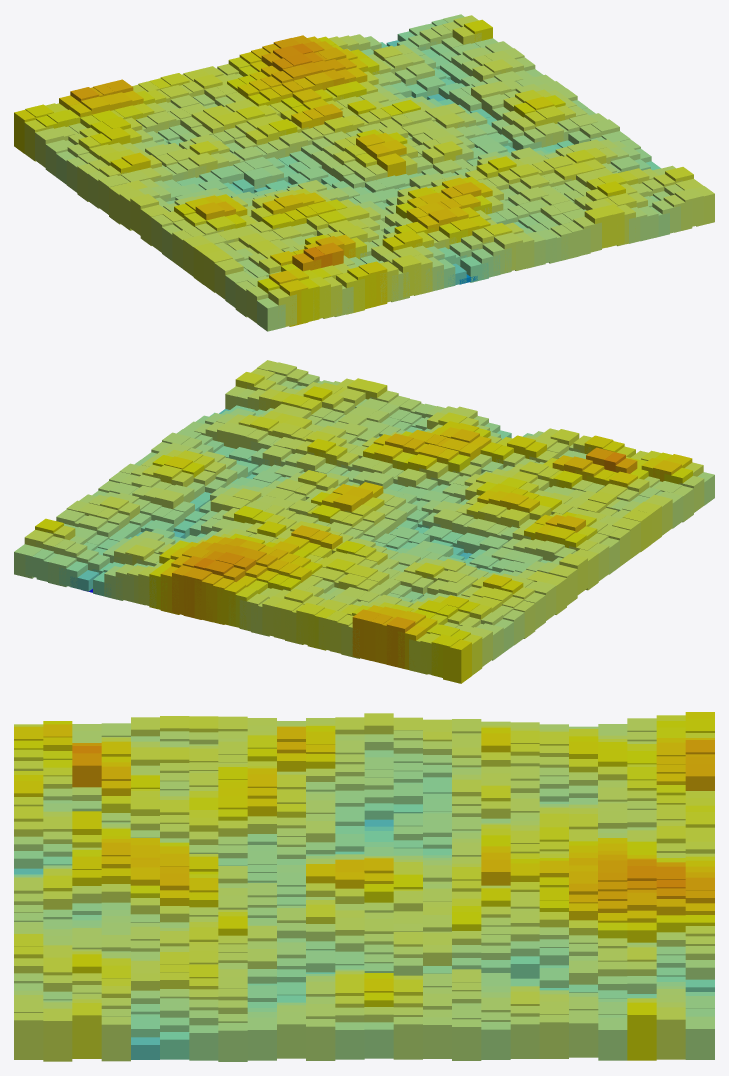
Rendered from population.glb.
3 renders of one model, top to bottom at view 1: azimuth 30°, elevation 25°; view 2: azimuth 150°, elevation 25°; view 3: azimuth 270°, elevation 25°, orthographic. The views are drawn at different scales.
Visible parts, largest first — view 1: population; view 2: population; view 3: population.
Boxes of the visible parts, x1,y1,x2,y2 form: population: (14,14,714,331); population: (14,360,714,683); population: (14,712,714,1061).
Bounding box in the file's own units: 2444 × 240 × 2399.
